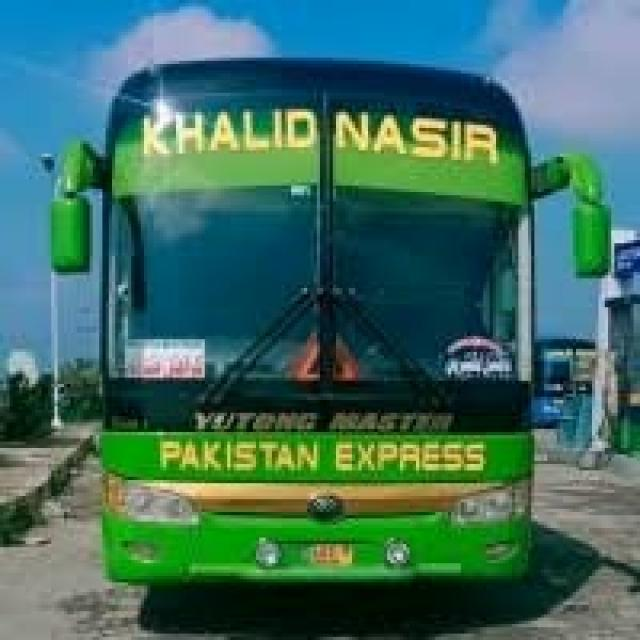bus: (20, 50, 636, 631)
